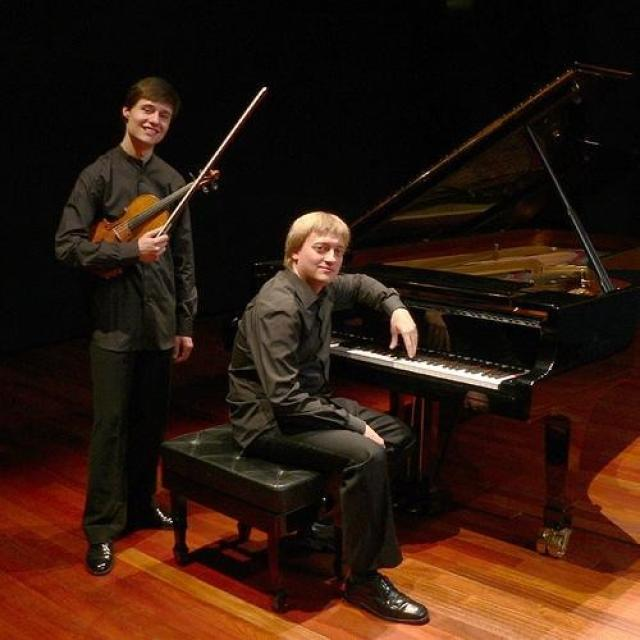violin: (86, 165, 223, 274)
